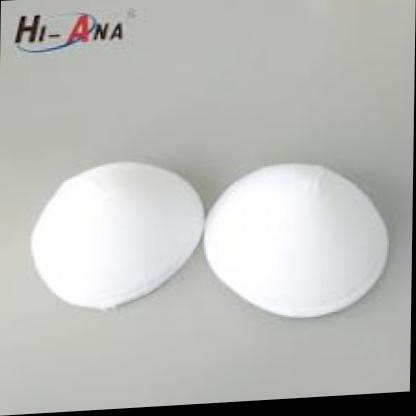Miscellaneous: (0, 108, 413, 384)
